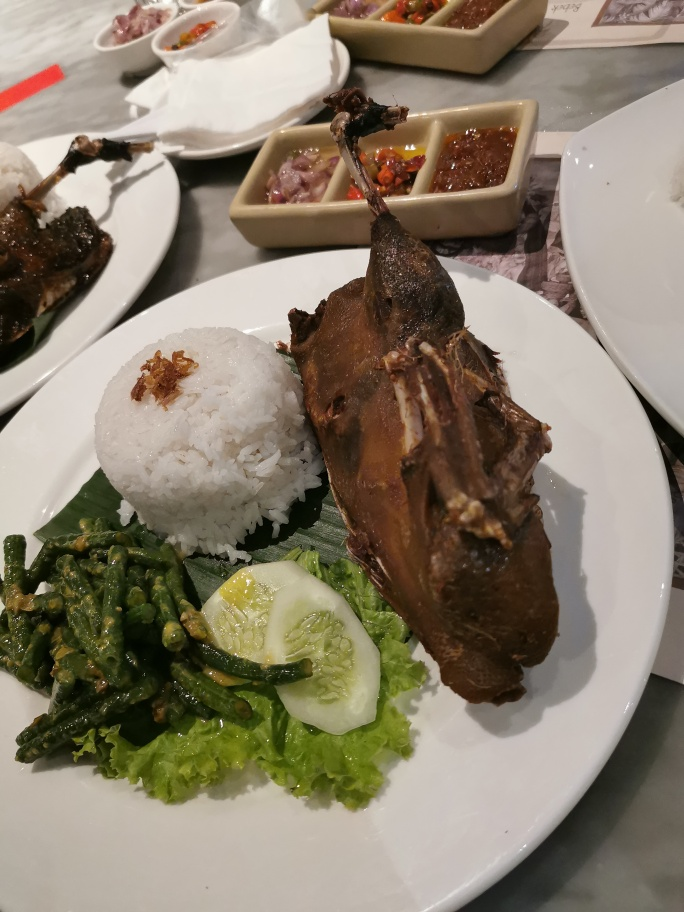bebek goreng: (277, 91, 565, 706)
nasi putih: (71, 318, 325, 560)
